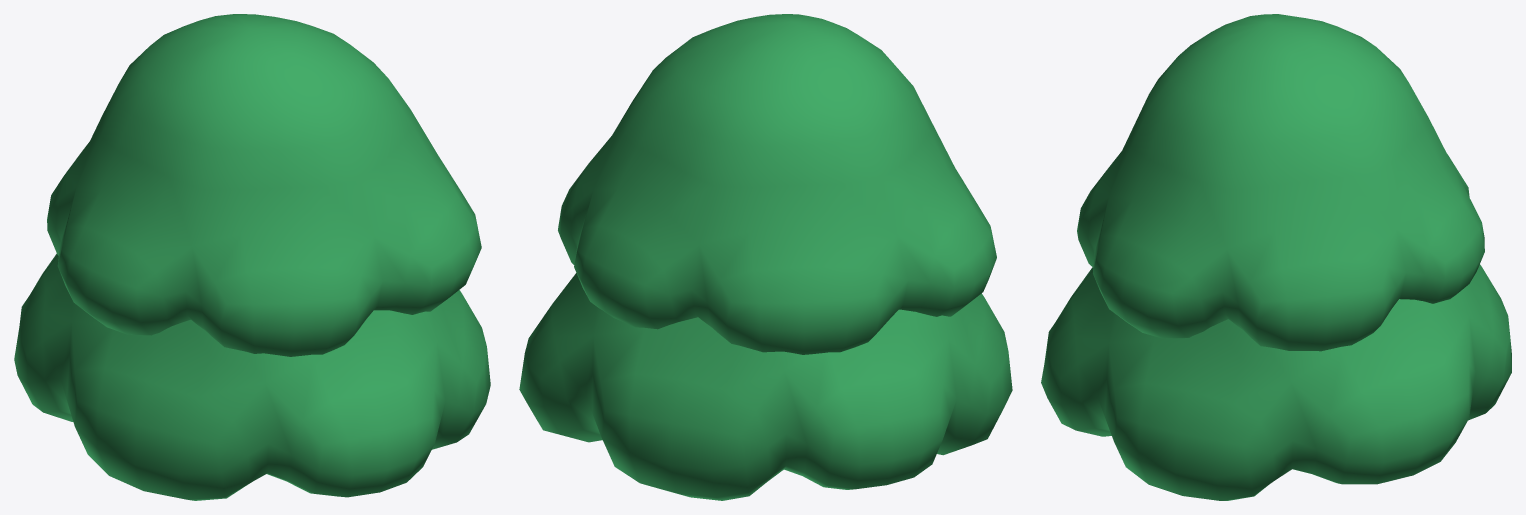
File: Bush_C_02.fbx
3 renders of one model, left to right at view 1: azimuth 30°, elevation 25°; view 2: azimuth 150°, elevation 25°; view 3: azimuth 270°, elevation 25°, orthographic. The views are drawn at different scales.
Visible parts, largest first — view 1: Bush_C_02_LOD0; view 2: Bush_C_02_LOD0; view 3: Bush_C_02_LOD0.
Boxes of the visible parts, bbox=[...] form: Bush_C_02_LOD0: bbox=[14, 14, 490, 500]; Bush_C_02_LOD0: bbox=[519, 14, 1012, 500]; Bush_C_02_LOD0: bbox=[1041, 14, 1511, 500].
Size of what is drawn, in the model's own units: 437 by 437 by 465.
